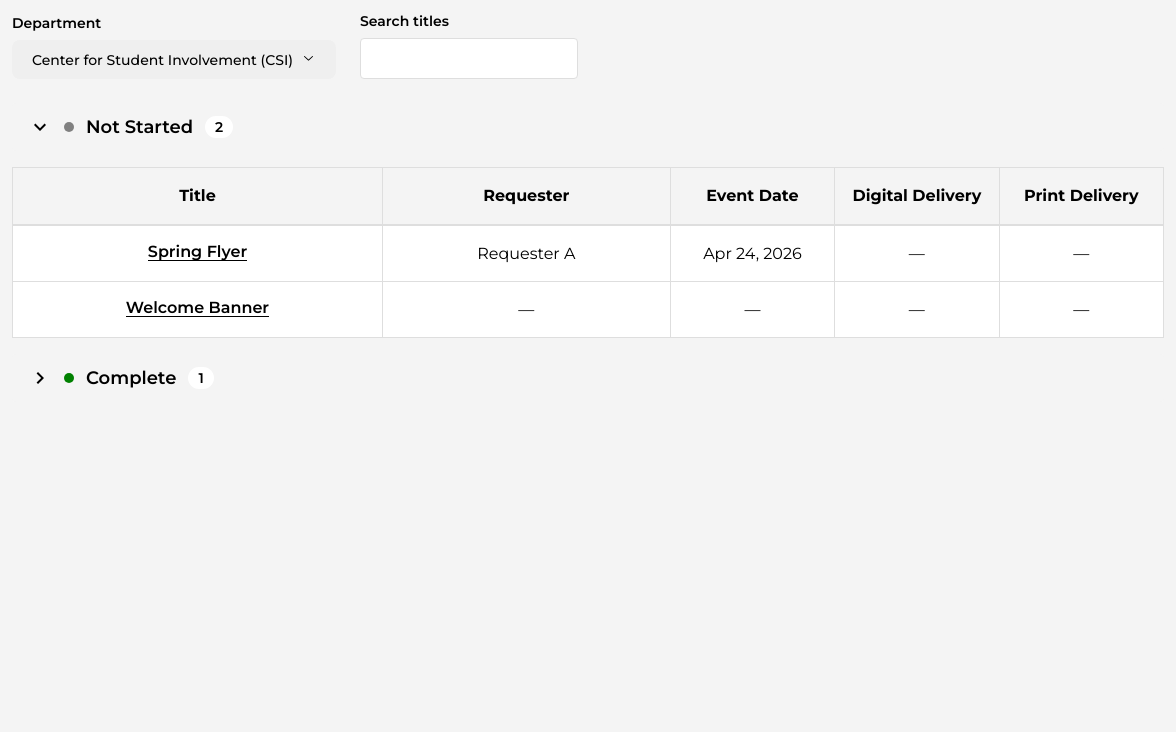
ContentBoard › renders a collapsed section only once it is opened
This screenshot has width=1176, height=732.
Click the button "Complete 1": (131, 378) x1=12 y1=354 x2=1164 y2=402
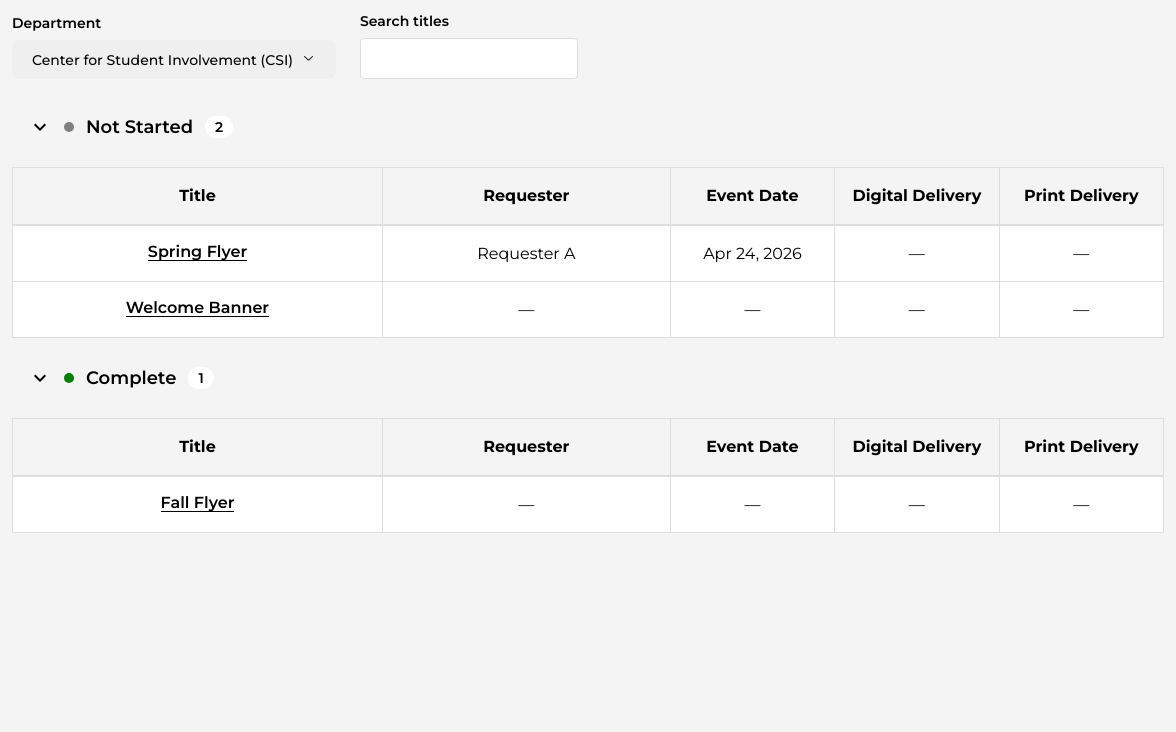
Expected: the button "Fall Flyer" is shown, x1=161 y1=493 x2=234 y2=512
